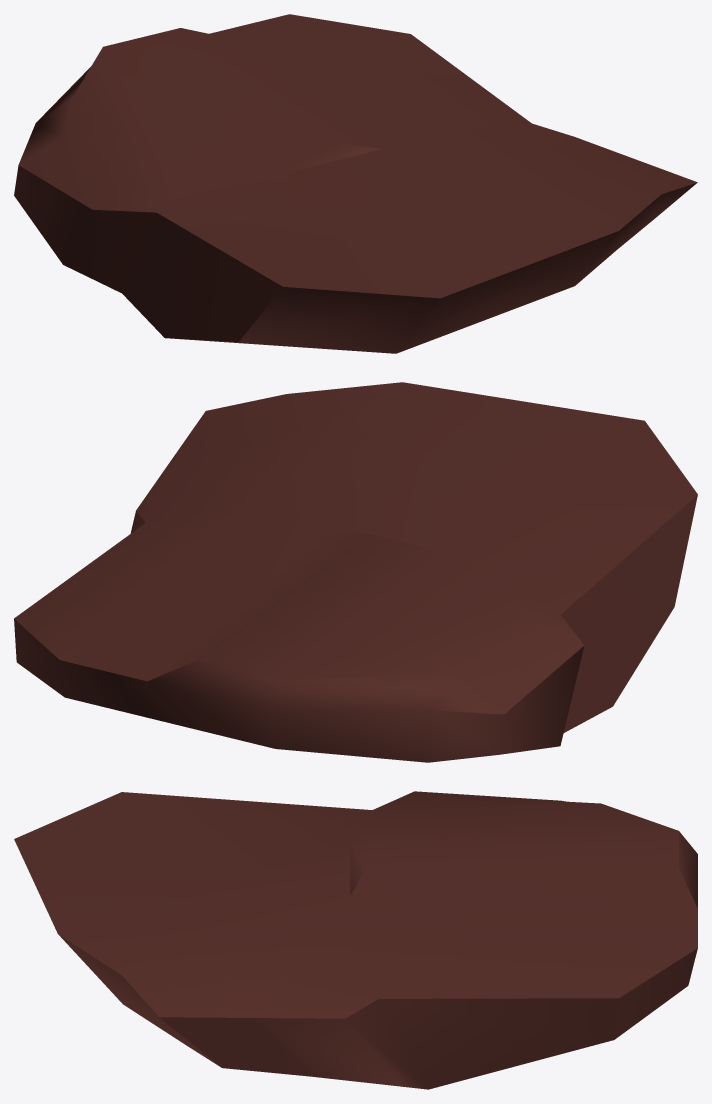
File: SM_small_rock_A.fbx
3 views of the same model, one above another, from view 1: azimuth 30°, elevation 25°; view 2: azimuth 150°, elevation 25°; view 3: azimuth 270°, elevation 25° (orthographic). The views are drawn at different scales.
Parts seen in each view (by area): view 1: polySurface3; view 2: polySurface3; view 3: polySurface3.
Part boxes in pixels (<box>): polySurface3: <box>14,14,697,353</box>; polySurface3: <box>14,382,697,762</box>; polySurface3: <box>14,791,697,1089</box>.
Bounding box in the file's own units: 169 × 43.21 × 210.
